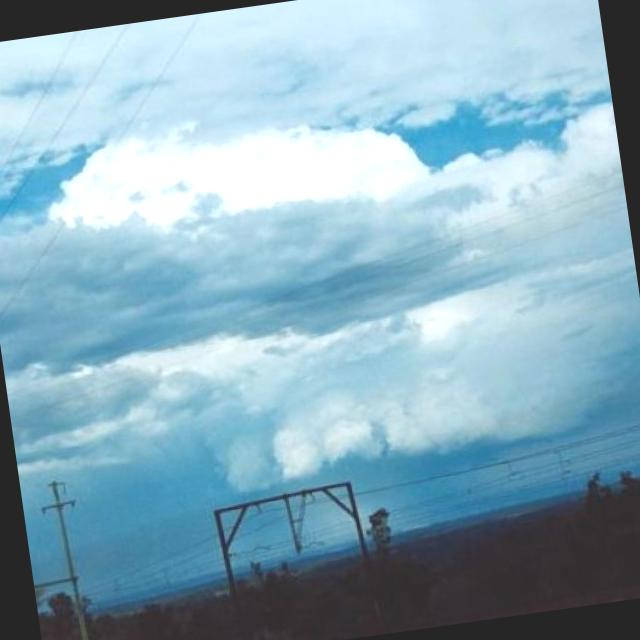altocumulus: (0, 126, 638, 371), (3, 275, 640, 516), (0, 0, 614, 203)
